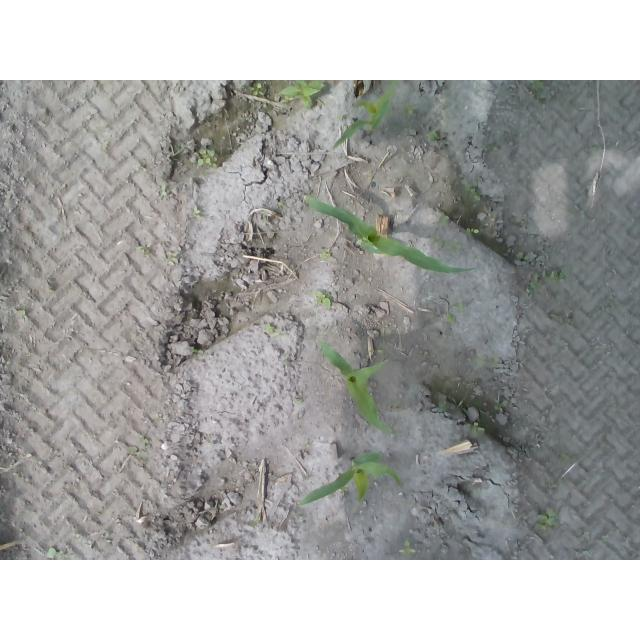Maize: (301, 194, 479, 276), (319, 338, 394, 437), (295, 450, 405, 508), (332, 80, 396, 150), (279, 80, 326, 108)
Weeds: (527, 269, 565, 295), (127, 432, 153, 457), (535, 509, 561, 532), (432, 237, 463, 256), (193, 148, 220, 169), (473, 352, 499, 368), (446, 302, 465, 323), (313, 289, 331, 311), (463, 419, 485, 436), (399, 541, 417, 556), (45, 548, 67, 560), (532, 80, 545, 98), (249, 83, 264, 98), (136, 244, 153, 257), (402, 104, 419, 116), (434, 213, 451, 225), (319, 247, 333, 261), (189, 205, 203, 219), (493, 400, 508, 413), (465, 226, 480, 239), (163, 255, 179, 266), (434, 401, 447, 414), (426, 132, 443, 140), (265, 323, 276, 334)
